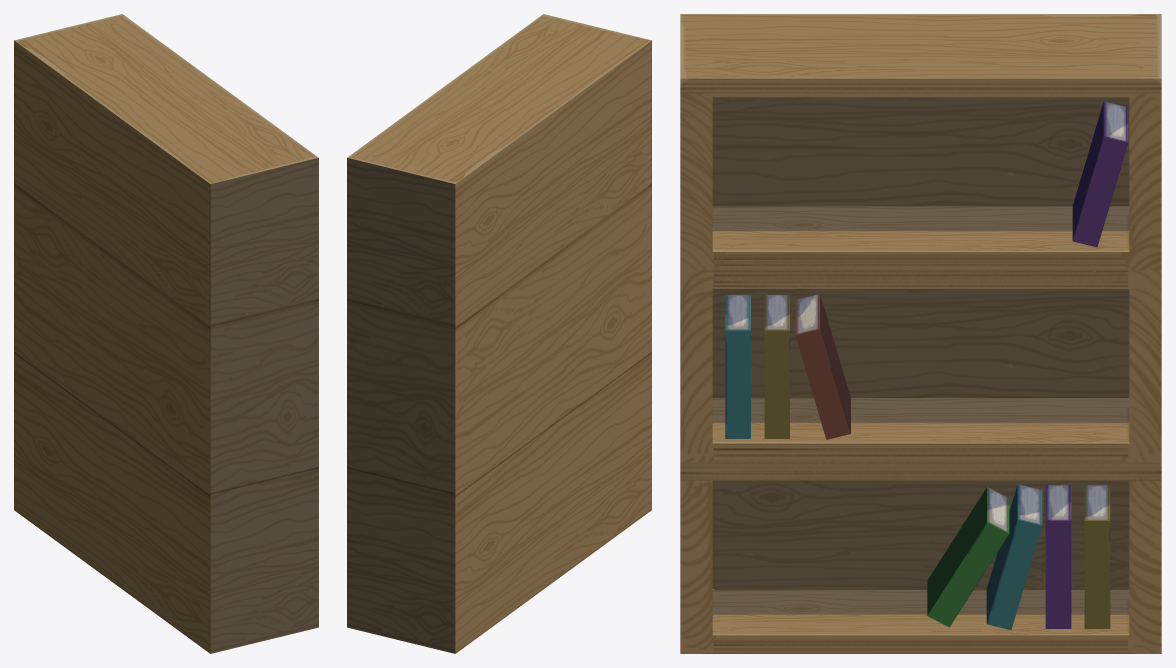
File: Book shelf.fbx
3 views of the same model, side by side, from view 1: azimuth 30°, elevation 25°; view 2: azimuth 150°, elevation 25°; view 3: azimuth 270°, elevation 25° (orthographic). The views are drawn at different scales.
Visible parts, largest first — view 1: book.002_03; view 2: book.002_03; view 3: book.002_03.
Part boxes in pixels (bbox=[...]): book.002_03: bbox=[14, 14, 318, 653]; book.002_03: bbox=[347, 14, 651, 653]; book.002_03: bbox=[680, 14, 1161, 653].
Bounding box in the file's own units: 38.86 × 161 × 122.
